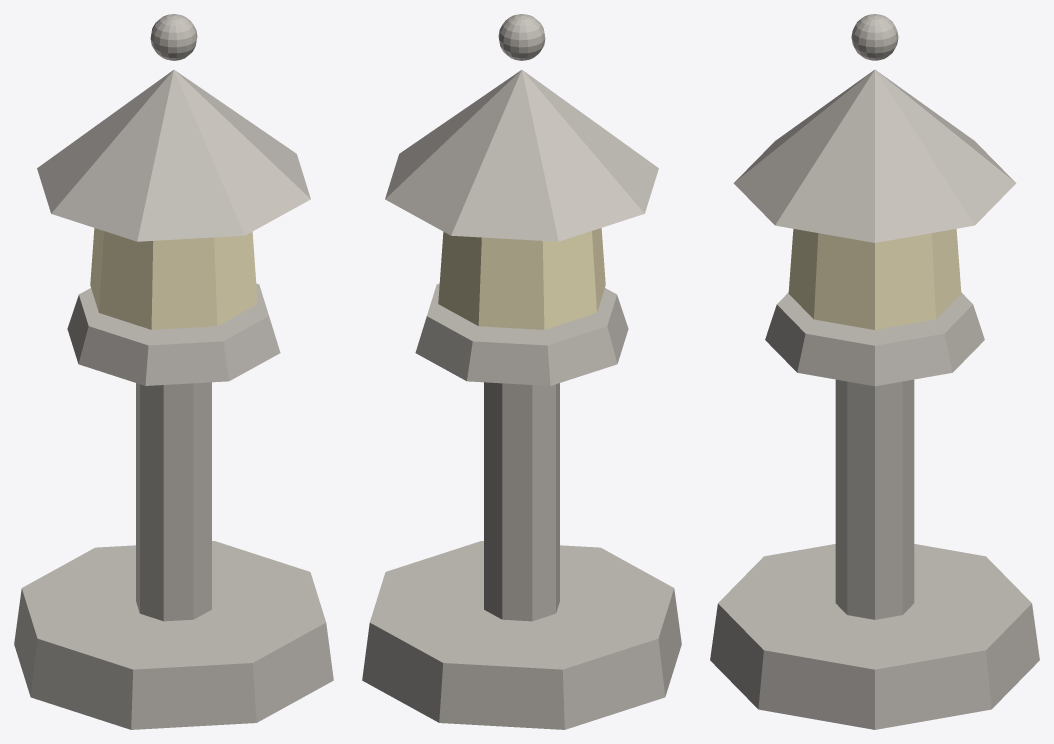
File: stone_lantern.glb
3 views of the same model, side by side, from view 1: azimuth 30°, elevation 25°; view 2: azimuth 150°, elevation 25°; view 3: azimuth 270°, elevation 25° (orthographic).
Parts seen in each view (by area): view 1: StoneLantern; view 2: StoneLantern; view 3: StoneLantern.
Part boxes in pixels (box(x1,y1,x2,y2)): StoneLantern: box(14, 14, 333, 729); StoneLantern: box(362, 14, 681, 729); StoneLantern: box(710, 14, 1039, 729).
Bounding box in the file's own units: 0.84 × 1.81 × 0.84.
